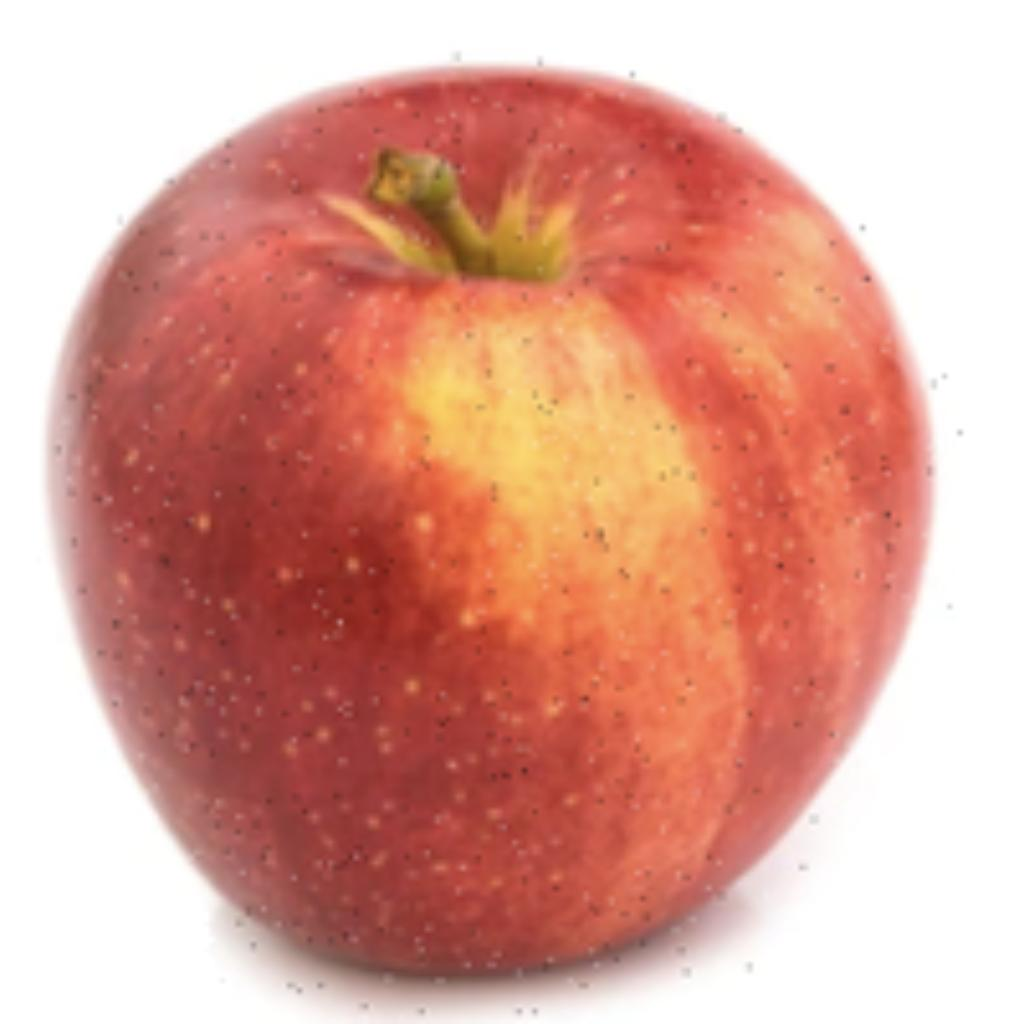apple: (31, 48, 947, 1019)
